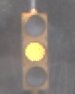Yellow: (18, 11, 57, 93)
